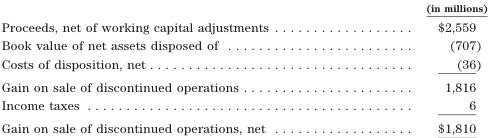table: (0, 1, 486, 135)
table column: (0, 1, 346, 135), (346, 1, 486, 135)
table column header: (0, 1, 486, 16)
table row: (0, 74, 486, 95), (0, 95, 486, 116), (0, 16, 486, 36), (0, 54, 486, 74), (0, 116, 486, 135), (0, 36, 486, 54), (0, 1, 486, 16)
